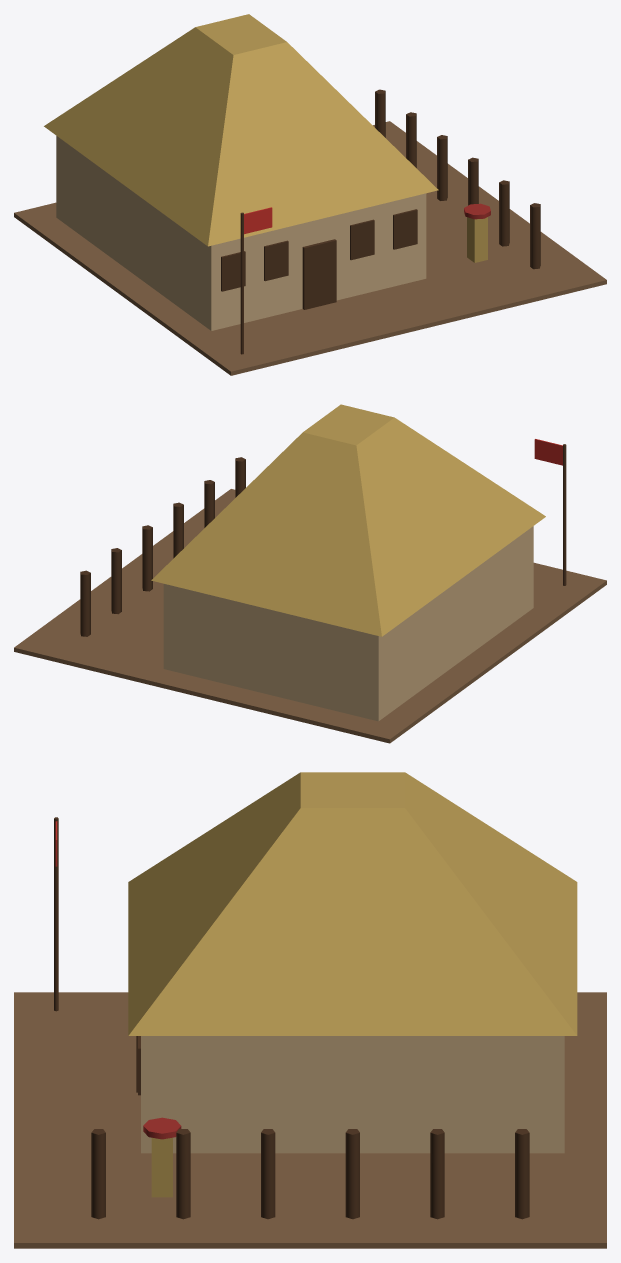
The model's file is bld_special_barracks_a01_lod1.glb.
3 renders of one model, top to bottom at view 1: azimuth 30°, elevation 25°; view 2: azimuth 150°, elevation 25°; view 3: azimuth 270°, elevation 25°, orthographic. The views are drawn at different scales.
Visible parts, largest first — view 1: body; view 2: body; view 3: body.
Part boxes in pixels (x1,y1,x2,y2): body: (14,14,606,375); body: (14,404,606,743); body: (14,772,606,1248).
Bounding box in the file's own units: 14 × 7.75 × 14.
